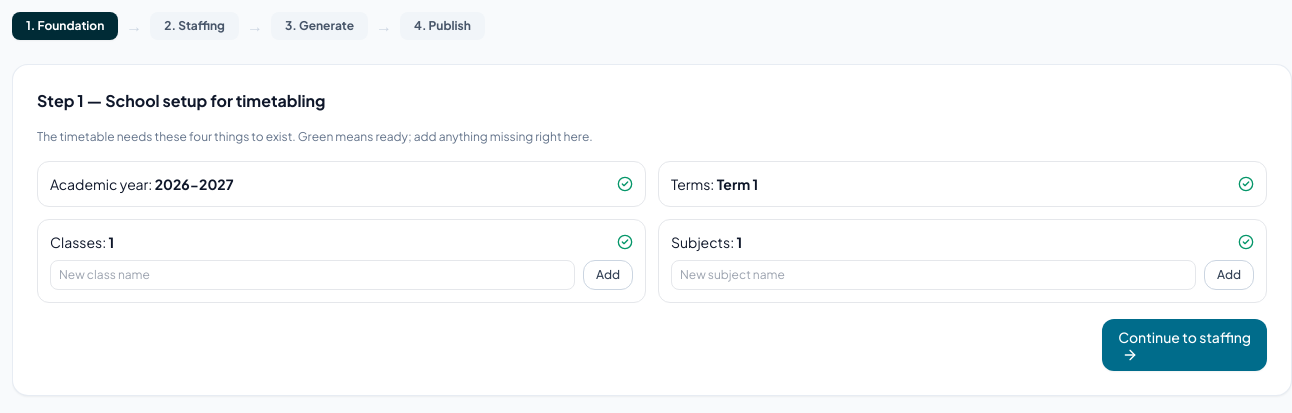
Test: TimetableWizard guided setup › staffing grid lists class x subject with qualified teacher dropdown
The width and height of the screenshot is (1292, 413).
Expected: the heading "Step 1 — School setup for timetabling" is shown, x1=37 y1=90 x2=326 y2=111
Step 1. Click the button "Continue to staffing" → (1185, 345), box x1=1102 y1=319 x2=1267 y2=371
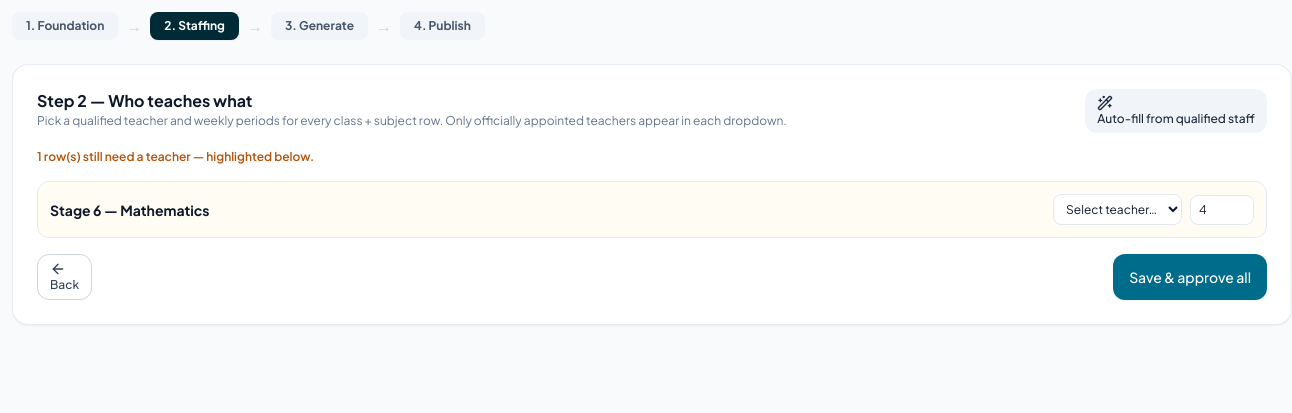
Now the text "Stage 6 — Mathematics" is shown, box x1=50 y1=200 x2=209 y2=218
Now the heading "Step 2 — Who teaches what" is shown, box x1=37 y1=90 x2=252 y2=111
